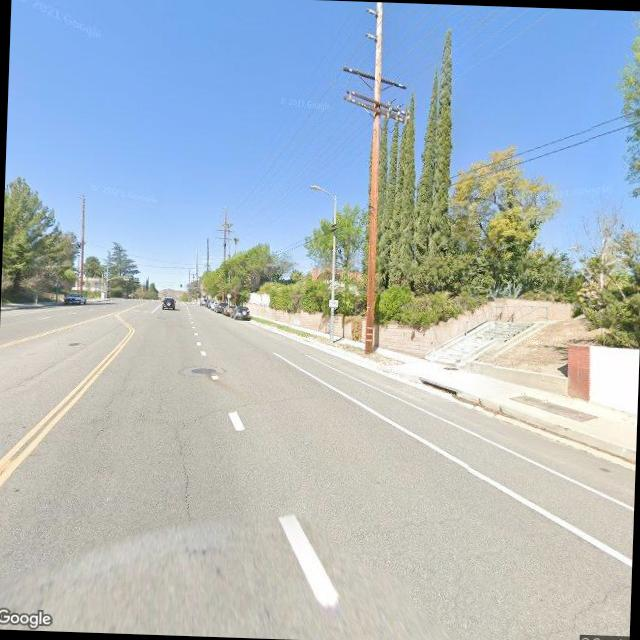crack: (182, 383, 310, 422), (162, 410, 198, 528)
